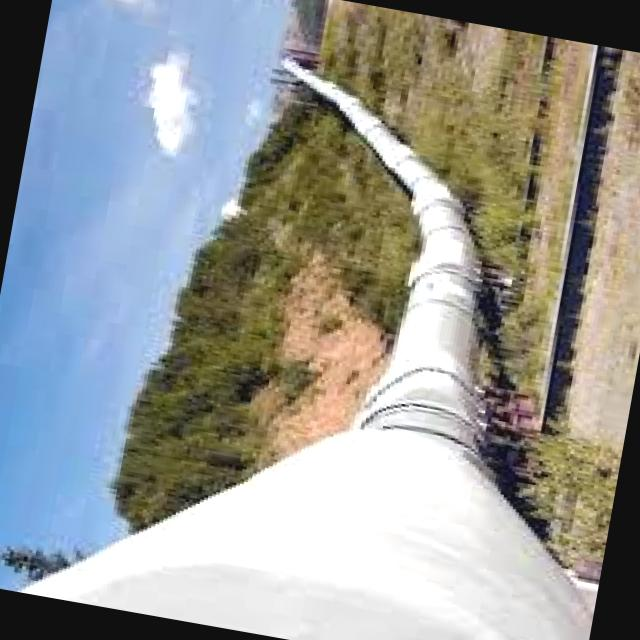gas: (18, 57, 585, 640)
